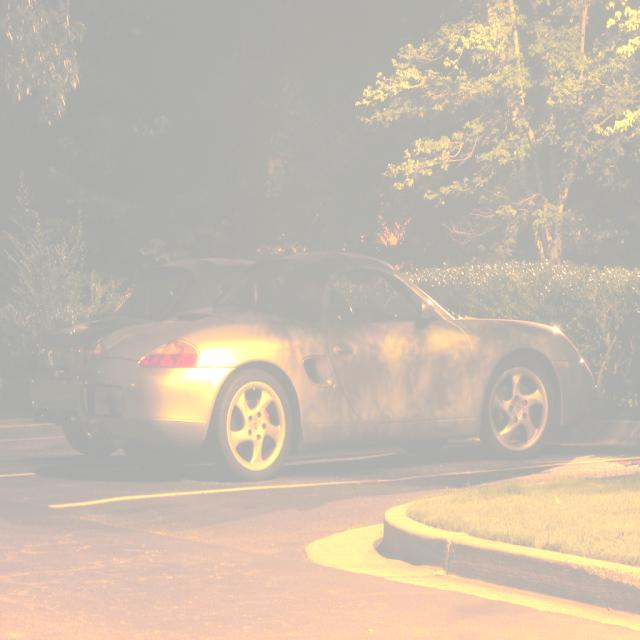Car: (83, 254, 600, 479)
